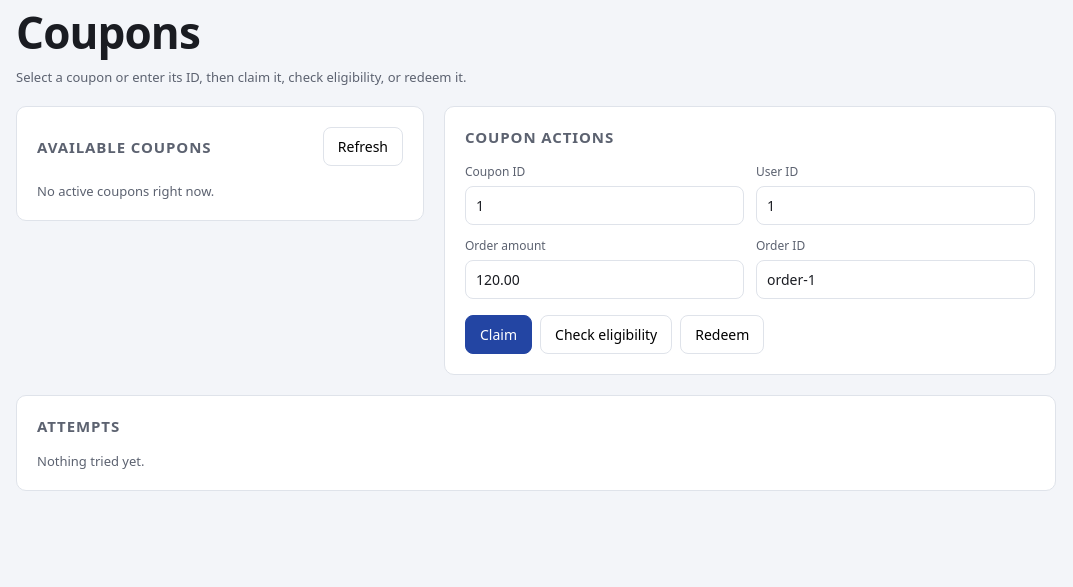
Test: App › keeps a log of what was tried
Click the button "Check eligibility": [606, 334] box [540,315,672,354]
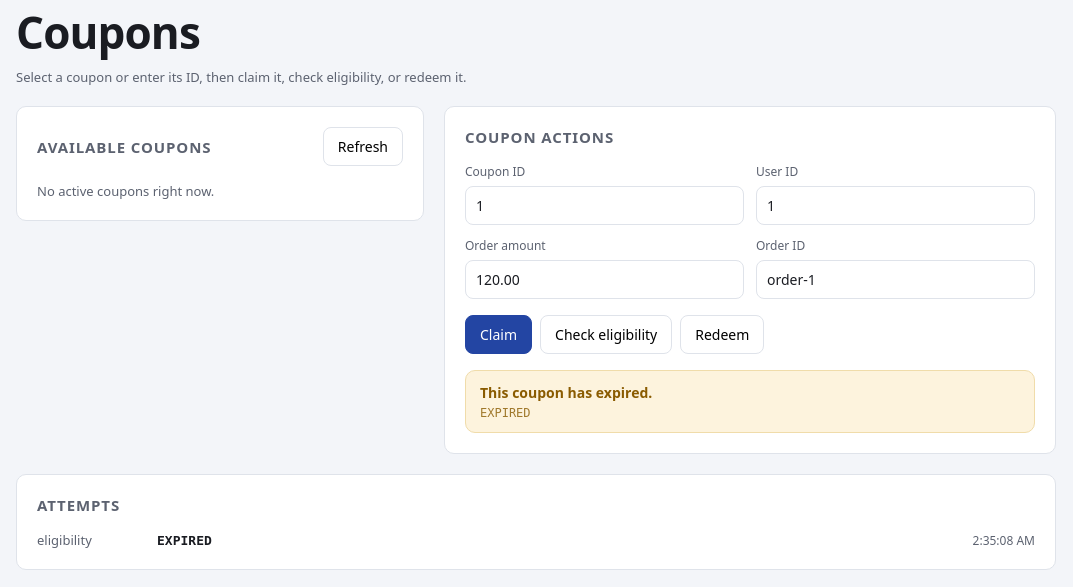
Check: the text "This coupon has expired." is shown, box [480,383,652,402]
Check: the text "eligibility" is shown, box [37,531,92,549]
Check: the text "EXPIRED" next to "2:35:08 AM" is shown, box [157,533,212,548]
